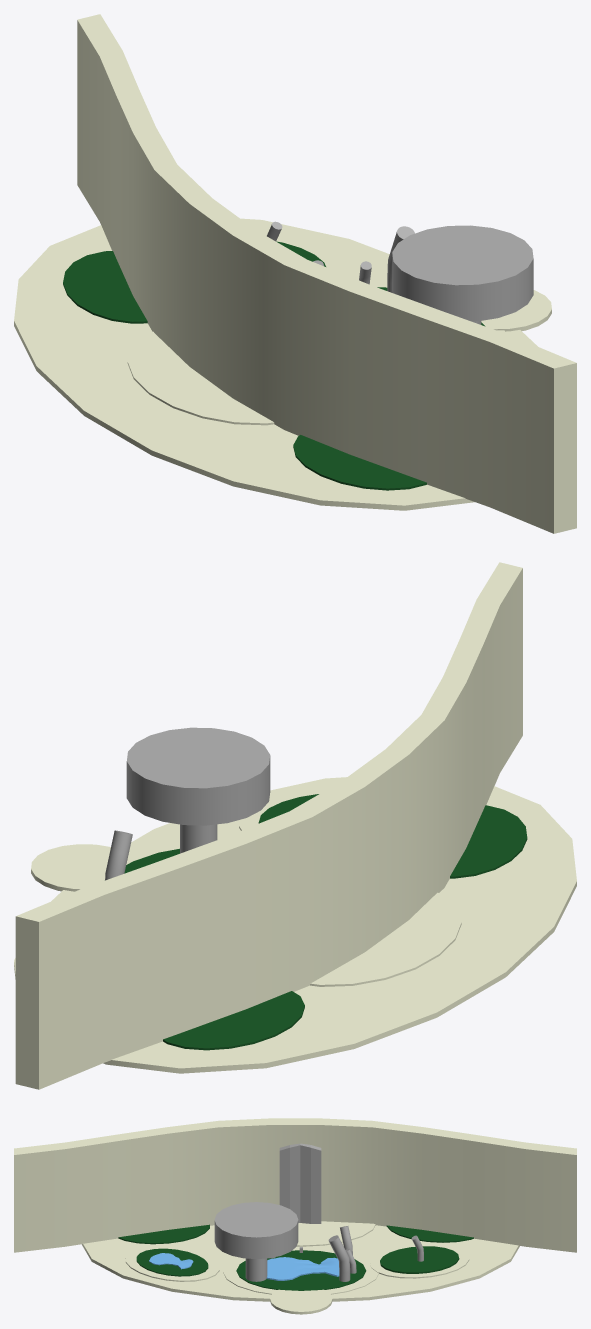
The model's file is Block_out.fbx.
The picture shows the model from 3 angles, top to bottom: view 1: azimuth 30°, elevation 25°; view 2: azimuth 150°, elevation 25°; view 3: azimuth 270°, elevation 25°; orthographic projection. The views are drawn at different scales.
Visible parts, largest first — view 1: vc, nn, er, zz, cc, xx, vv; view 2: vc, nn, er, zz, cc, xx, vv, gf, fd; view 3: vc, nn, er, fgfg, MainGrass, Block_out, bnv, vv, zz, df, fd, jj (+5 smaller).
Boxes of the visible parts, x1,y1,x2,y2 form: vc: [77, 14, 576, 533]; nn: [14, 218, 537, 510]; er: [392, 225, 533, 324]; zz: [127, 331, 274, 425]; cc: [63, 251, 147, 323]; xx: [293, 435, 426, 490]; vv: [481, 290, 551, 331]; vc: [15, 562, 522, 1089]; nn: [14, 777, 576, 1073]; er: [126, 727, 270, 853]; zz: [310, 892, 461, 986]; cc: [163, 991, 304, 1050]; xx: [450, 805, 527, 878]; vv: [31, 844, 135, 891]; gf: [105, 830, 132, 880]; fd: [239, 788, 328, 830]; vc: [14, 1118, 576, 1252]; nn: [82, 1225, 519, 1301]; er: [214, 1202, 298, 1281]; fgfg: [279, 1143, 321, 1223]; MainGrass: [236, 1250, 366, 1290]; Block_out: [380, 1246, 459, 1273]; bnv: [223, 1246, 378, 1294]; vv: [270, 1289, 332, 1314]; zz: [296, 1221, 375, 1246]; df: [266, 1257, 339, 1280]; fd: [125, 1245, 219, 1281]; jj: [136, 1248, 208, 1276].
Size of the model in its own units: 7926 by 2794 by 14189.
